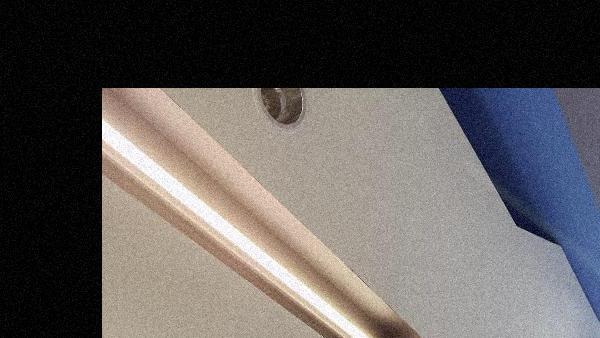light_on: (102, 116, 389, 338)
